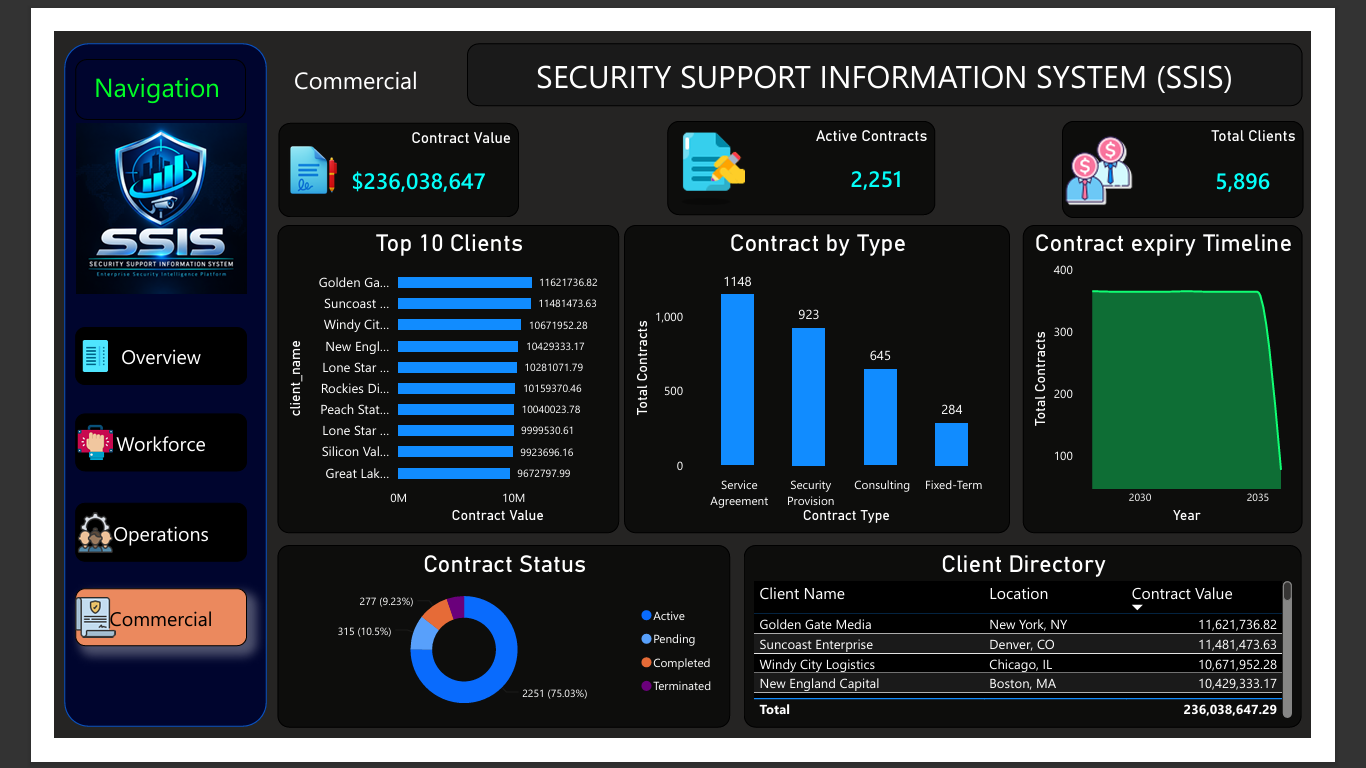

The page's visual inventory and layout, read from the dashboard file:
{"tool":"powerbi","page":{"name":"Commercial","canvas":[1280,720],"ordinal":3},"visuals":[{"type":"textbox","box":[420.2,11.8,850.8,64.7],"z":0},{"type":"actionButton","box":[20.6,301.2,175.4,58.9],"z":0,"group":"g4"},{"type":"shape","box":[10.3,11.8,205.7,696.5],"z":1000},{"type":"image","box":[20.6,301.2,40.6,58.9],"z":1000,"group":"g4"},{"type":"textbox","box":[20.6,27.9,174.9,61.7],"z":2000},{"type":"actionButton","box":[20.6,567.2,175.4,58.9],"z":2000,"group":"g1"},{"type":"actionButton","box":[20.6,389.4,175.4,58.9],"z":3000,"group":"g3"},{"type":"group","id":"g1","title":"Group 1","box":[20.6,567.2,174.9,60.2],"z":3000},{"type":"group","id":"g2","title":"Group 2","box":[20.6,480.5,174.9,60.2],"z":4000},{"type":"group","id":"g3","title":"Group 3","box":[20.6,389.4,174.9,58.8],"z":5000},{"type":"actionButton","box":[20.6,480.5,175.4,60.2],"z":5000,"group":"g2"},{"type":"group","id":"g4","title":"Group 4","box":[20.6,301.2,174.9,58.8],"z":6000},{"type":"cardVisual","title":"Active Contracts","fields":{"Data":["ssis contract.Active Contracts"]},"box":[624.5,91.1,273.2,96.3],"z":6001,"group":"g7"},{"type":"image","box":[20.6,567.2,40.6,58.9],"z":6001,"group":"g1"},{"type":"image","box":[20.6,481.8,40.6,58.9],"z":6002,"group":"g2"},{"type":"image","box":[20.6,389.4,40.6,58.9],"z":6003,"group":"g3"},{"type":"group","id":"g5","title":"Group 1","box":[227.8,92.6,243.9,94],"z":7000},{"type":"image","box":[624.5,91.1,78.8,92.5],"z":8000,"group":"g7"},{"type":"group","id":"g6","title":"Group 4","box":[1025.6,91.1,245.4,99.9],"z":8000},{"type":"group","id":"g7","title":"Group 5","box":[624.5,91.1,273.3,95.5],"z":9000},{"type":"cardVisual","title":"Contract Value","fields":{"Data":["ssis contract.Total Contract Value"]},"box":[227.8,92.6,245,96.3],"z":10000,"group":"g5"},{"type":"clusteredColumnChart","title":"Contract by Type","fields":{"Category":["ssis contract.contract_type"],"Y":["CountNonNull(ssis contract.contract_id)"]},"box":[580.4,196.9,392.3,314.4],"z":10000},{"type":"donutChart","title":"Contract  Status","fields":{"Y":["CountNonNull(ssis contract.contract_id)"],"Category":["ssis contract.status"]},"box":[227.1,523,461.1,185.8],"z":11000},{"type":"cardVisual","title":"Total Clients","fields":{"Data":["ssis client.Total Clients"]},"box":[1025.6,91.1,246.1,99.5],"z":12000,"group":"g6"},{"type":"clusteredBarChart","title":"Top 10 Clients","fields":{"Category":["ssis client.client_name"],"Y":["Sum(ssis contract.contract_value)"]},"box":[227.1,196.8,348.2,313.8],"z":12000},{"type":"lineChart","title":"Contract expiry Timeline","fields":{"Category":["ssis contract.contract_end.Variation.Date Hierarchy.Year","ssis contract.contract_end.Variation.Date Hierarchy.Month","ssis contract.contract_end.Variation.Date Hierarchy.Day"],"Y":["CountNonNull(ssis contract.contract_id)"]},"box":[986,196.9,285.1,314.4],"z":13000},{"type":"image","box":[227.8,92.6,62.4,94.9],"z":13005,"group":"g5"},{"type":"image","box":[1026,93.6,74.2,94.4],"z":13008,"group":"g6"},{"type":"tableEx","title":"Client Directory","fields":{"Values":["ssis client.client_name","ssis client.location","Sum(ssis contract.contract_value)"]},"box":[701.9,523,568.4,185.8],"z":14000},{"type":"textbox","box":[227.8,27.9,158.7,48.5],"z":15000},{"type":"image","box":[20.6,94,174.9,173.4],"z":16000}]}

Visuals, with their boxes in screenshot pixels (x1, y1, x2, y2), scaled from the page's 1280x720 canvas onto the 1366x768 screenshot:
textbox: select_region(448, 13, 1356, 82)
actionButton: select_region(22, 321, 209, 384)
shape: select_region(11, 13, 231, 756)
image: select_region(22, 321, 65, 384)
textbox: select_region(22, 30, 209, 96)
actionButton: select_region(22, 605, 209, 668)
actionButton: select_region(22, 415, 209, 478)
"Group 1" group: select_region(22, 605, 209, 669)
"Group 2" group: select_region(22, 513, 209, 577)
"Group 3" group: select_region(22, 415, 209, 478)
actionButton: select_region(22, 513, 209, 577)
"Group 4" group: select_region(22, 321, 209, 384)
"Active Contracts" cardVisual: select_region(666, 97, 958, 200)
image: select_region(22, 605, 65, 668)
image: select_region(22, 514, 65, 577)
image: select_region(22, 415, 65, 478)
"Group 1" group: select_region(243, 99, 503, 199)
image: select_region(666, 97, 751, 196)
"Group 4" group: select_region(1095, 97, 1356, 204)
"Group 5" group: select_region(666, 97, 958, 199)
"Contract Value" cardVisual: select_region(243, 99, 505, 201)
"Contract by Type" clusteredColumnChart: select_region(619, 210, 1038, 545)
"Contract  Status" donutChart: select_region(242, 558, 734, 756)
"Total Clients" cardVisual: select_region(1095, 97, 1357, 203)
"Top 10 Clients" clusteredBarChart: select_region(242, 210, 614, 545)
"Contract expiry Timeline" lineChart: select_region(1052, 210, 1357, 545)
image: select_region(243, 99, 310, 200)
image: select_region(1095, 100, 1174, 201)
"Client Directory" tableEx: select_region(749, 558, 1356, 756)
textbox: select_region(243, 30, 412, 81)
image: select_region(22, 100, 209, 285)
